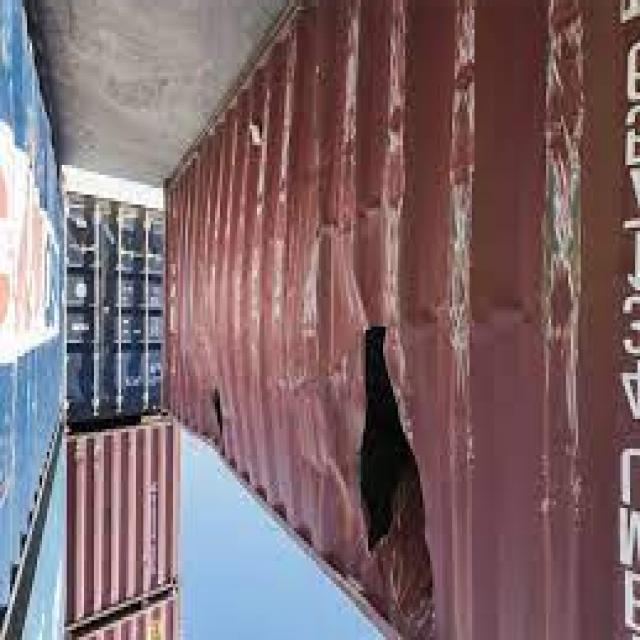dent: (230, 114, 552, 259), (171, 262, 260, 356)
